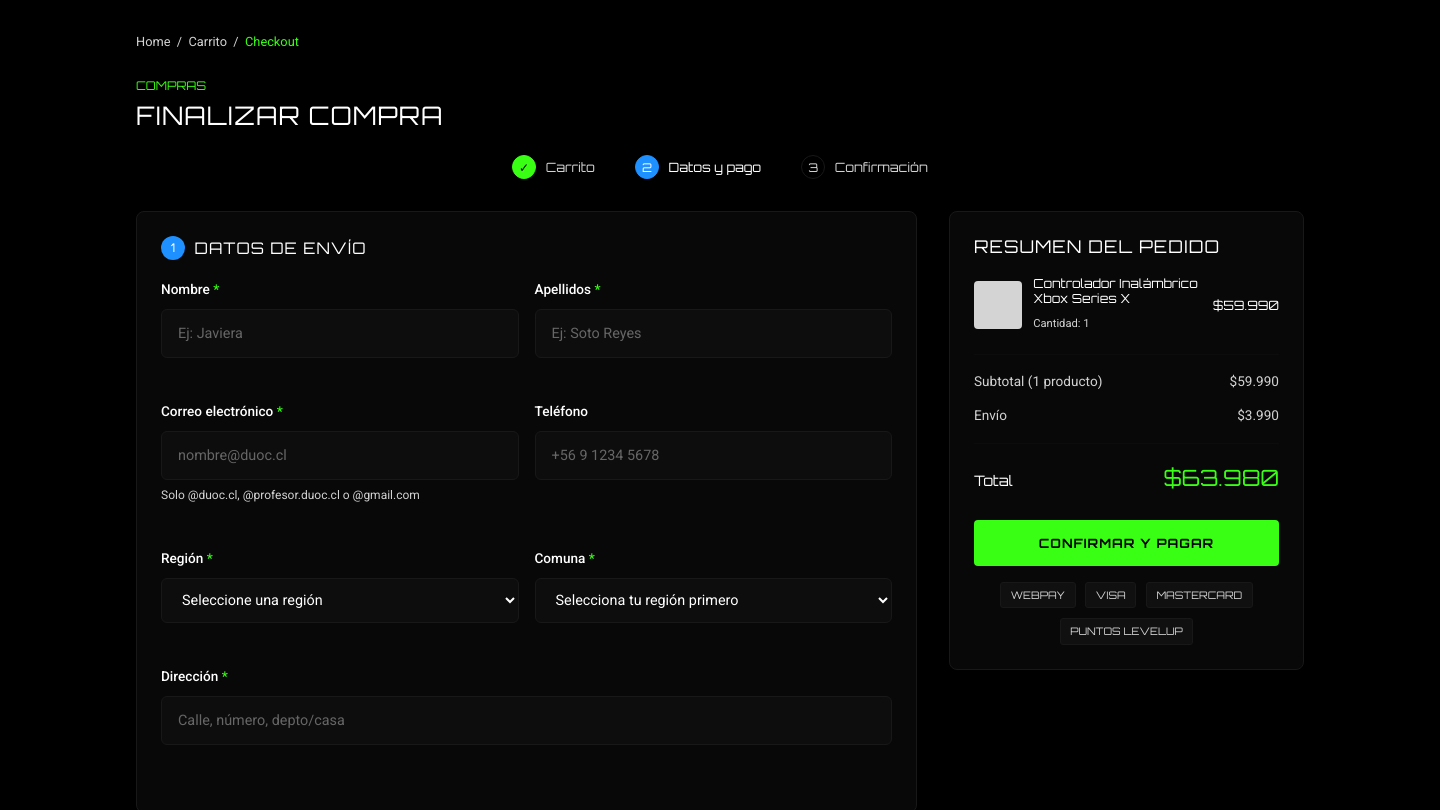
Test case: Pago y persistencia del pedido › actualiza el resumen Duoc al cambiar el correo del formulario
Type "estudiante@duoc.cl" into the field labelled "Correo electrónico *" at (340, 456), box [161,431,518,480]
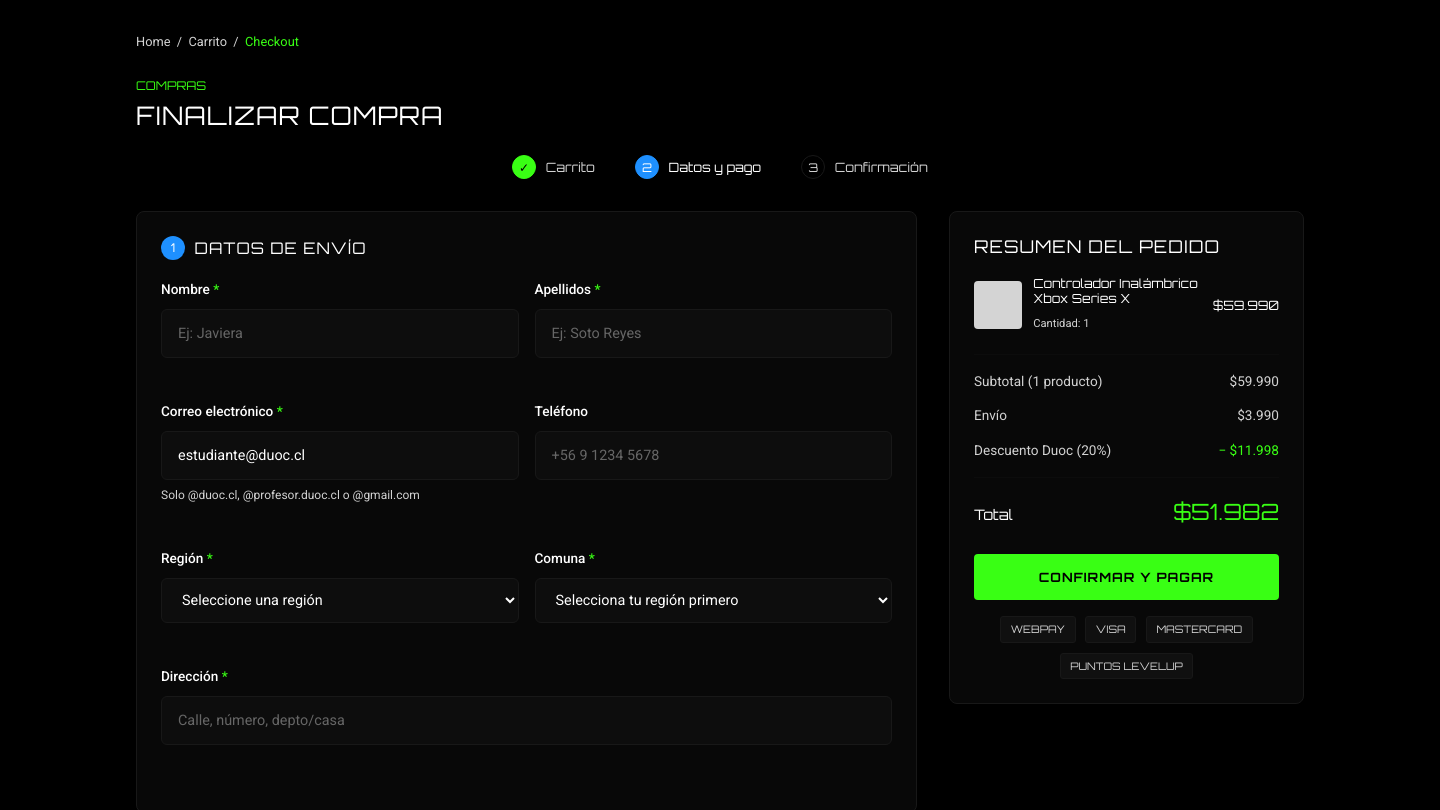
Check: the text "Descuento Duoc (20%)" is shown, box [974,440,1111,462]
Replace the text in the field labelled "Correo electrónico *" with "cliente@gmail.com" at (340, 456), box [161,431,518,480]
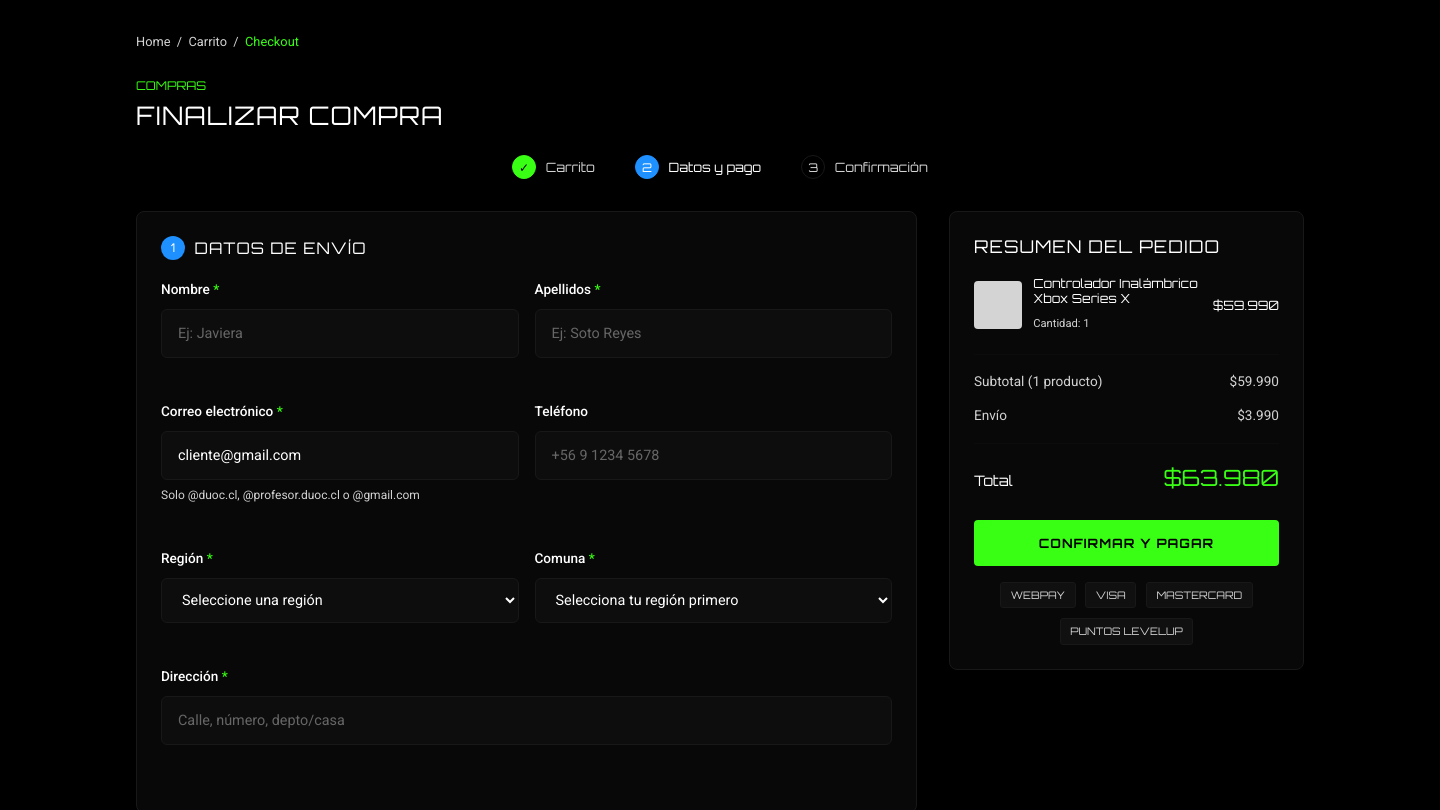
Check: the text "Descuento Duoc (20%)" is gone
